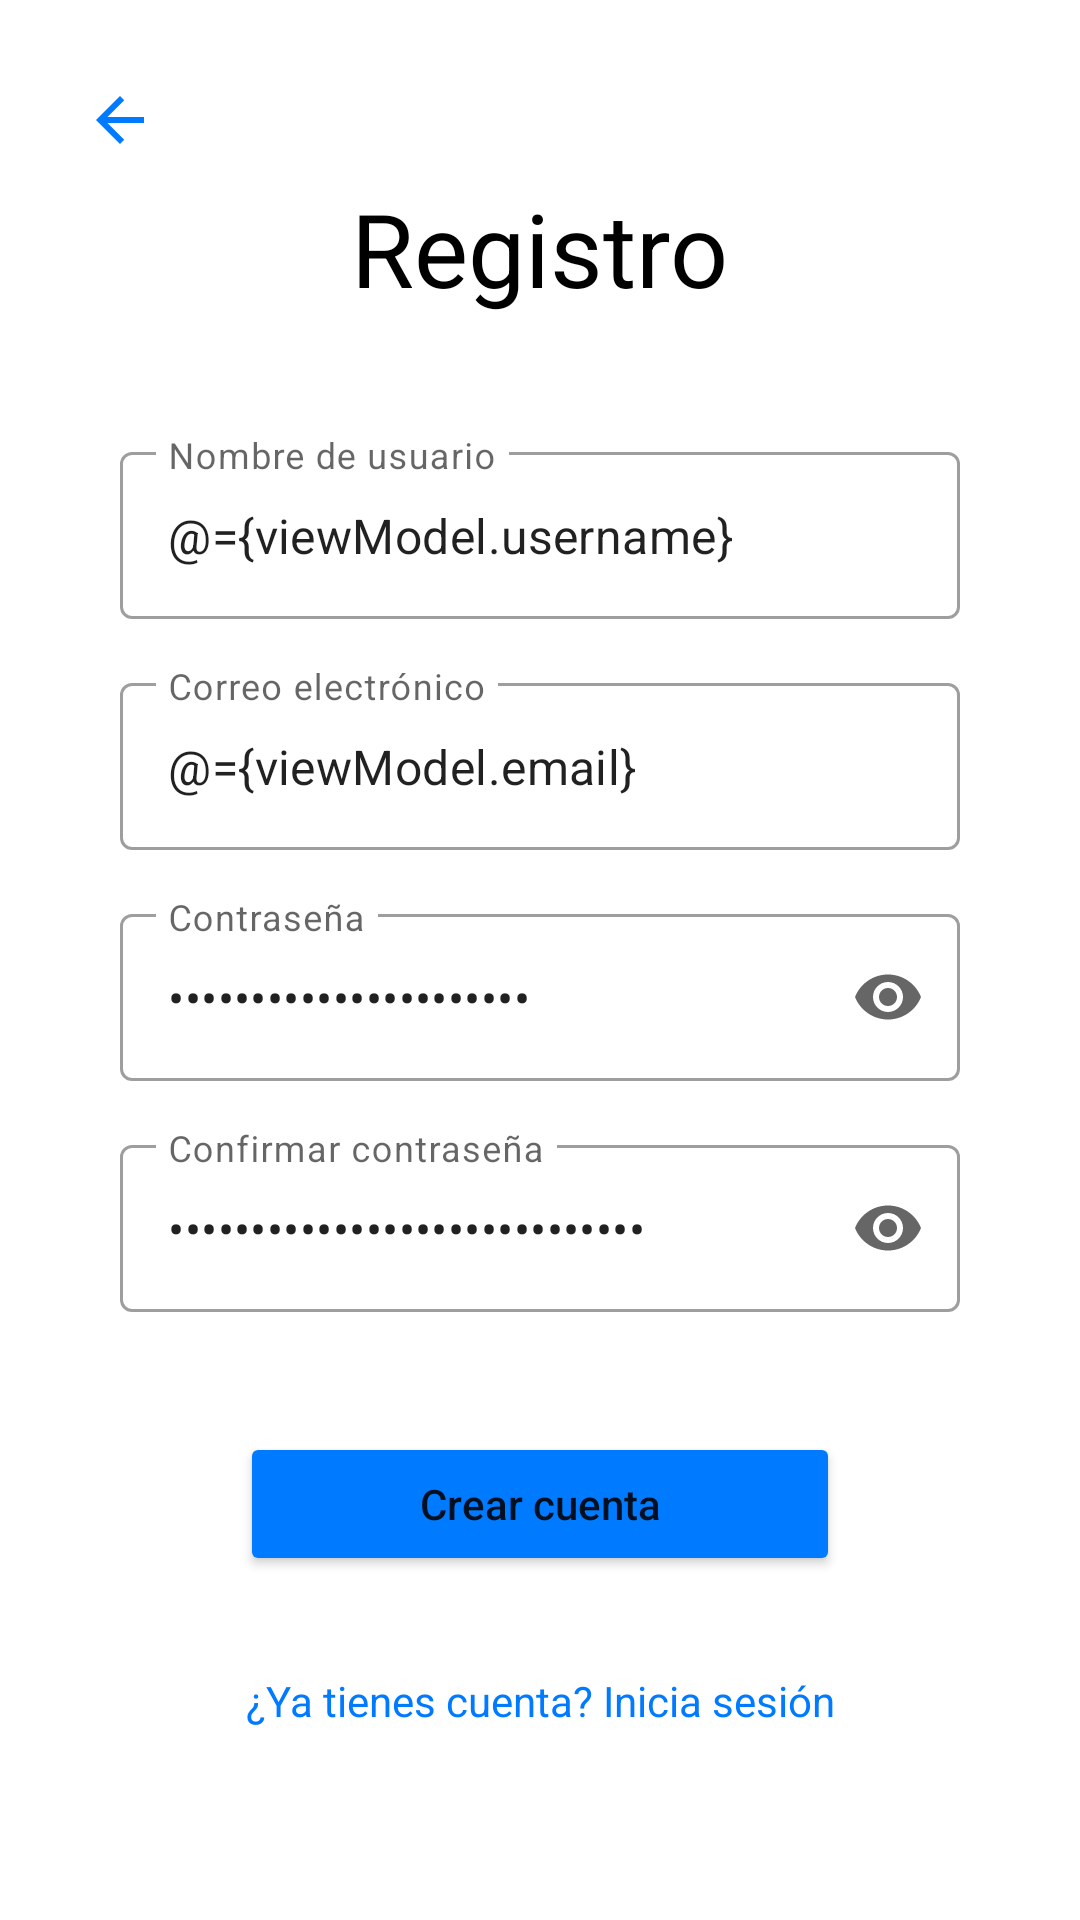

Named icons in this screenshot (1080w x 1920h) and their centers, [x,y]:
Para volver al menu: [120,120]
